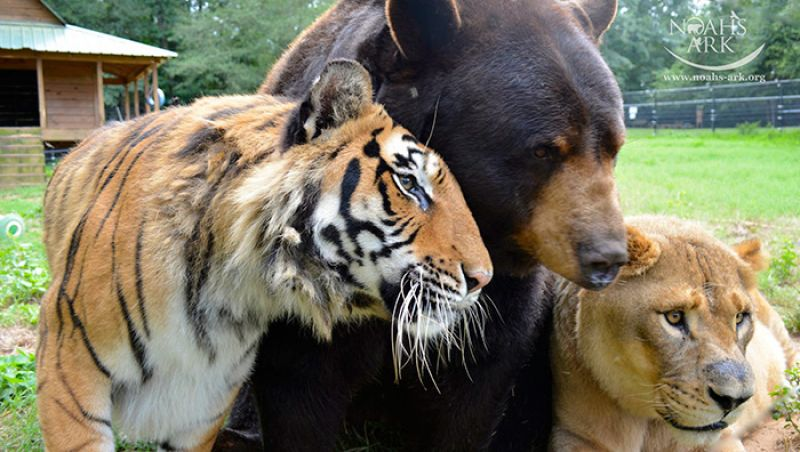bear: (246, 7, 636, 452)
lion: (560, 202, 778, 452)
tiger: (37, 72, 481, 452)
